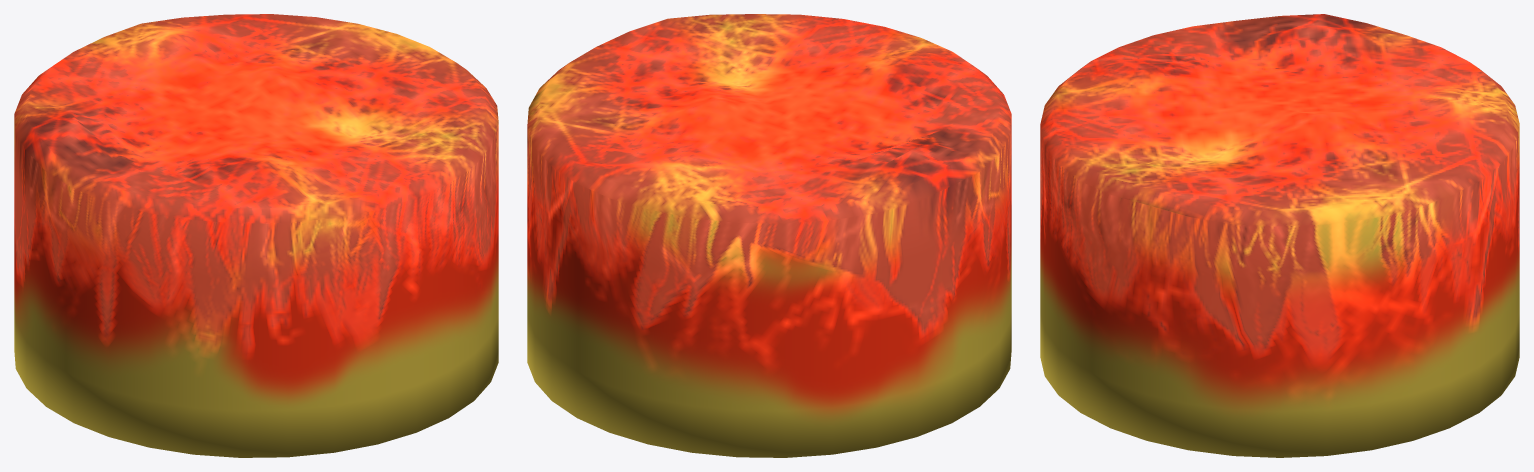
The model's file is Mezcla.fbx.
3 views of the same model, side by side, from view 1: azimuth 30°, elevation 25°; view 2: azimuth 150°, elevation 25°; view 3: azimuth 270°, elevation 25° (orthographic).
Visible parts, largest first — view 1: Mezcla; view 2: Mezcla; view 3: Mezcla.
Boxes of the visible parts, x1,y1,x2,y2 form: Mezcla: [14, 14, 498, 457]; Mezcla: [527, 14, 1011, 457]; Mezcla: [1040, 14, 1519, 457].
Bounding box in the file's own units: 10.77 × 10.77 × 6.85.
1 material, 1 textured.
